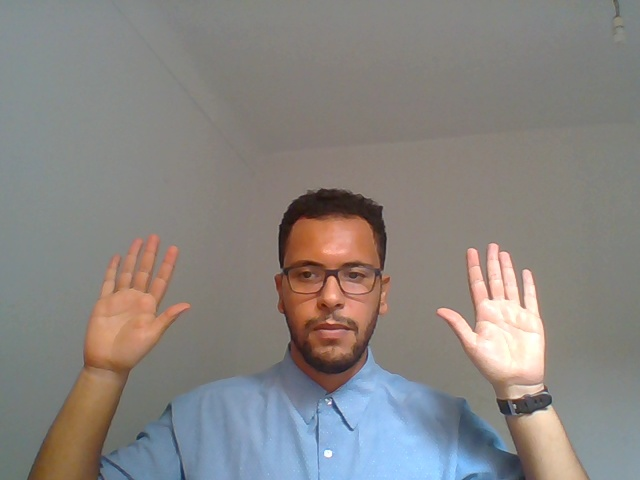hello: (48, 194, 199, 449), (418, 227, 573, 472)
